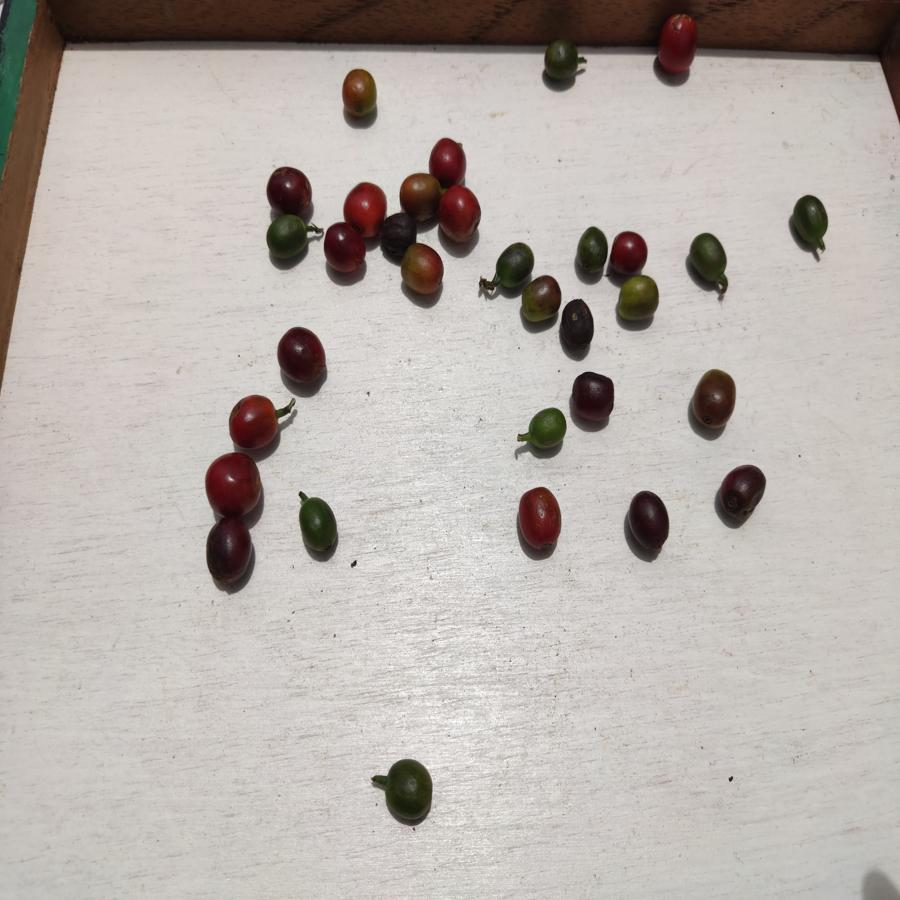Inmaduro: (382, 756, 435, 828), (687, 229, 732, 288), (297, 495, 341, 553), (789, 192, 830, 248), (266, 214, 312, 262), (525, 403, 569, 452), (542, 39, 586, 85), (495, 239, 533, 289), (574, 225, 607, 277)
Maduro: (203, 453, 262, 515), (223, 393, 282, 452), (518, 485, 564, 555), (657, 12, 703, 75), (438, 185, 483, 244), (343, 180, 385, 231), (428, 136, 468, 183), (608, 227, 647, 275)
Pinton: (337, 65, 382, 121), (402, 243, 444, 295), (618, 275, 658, 325), (397, 172, 438, 220), (524, 275, 560, 320)
Sobremaduro: (202, 517, 256, 585), (718, 462, 768, 522), (626, 487, 672, 552), (693, 364, 738, 429), (277, 325, 328, 382), (265, 165, 318, 212), (320, 227, 368, 277), (570, 372, 617, 422), (560, 300, 596, 350), (382, 216, 418, 254)
